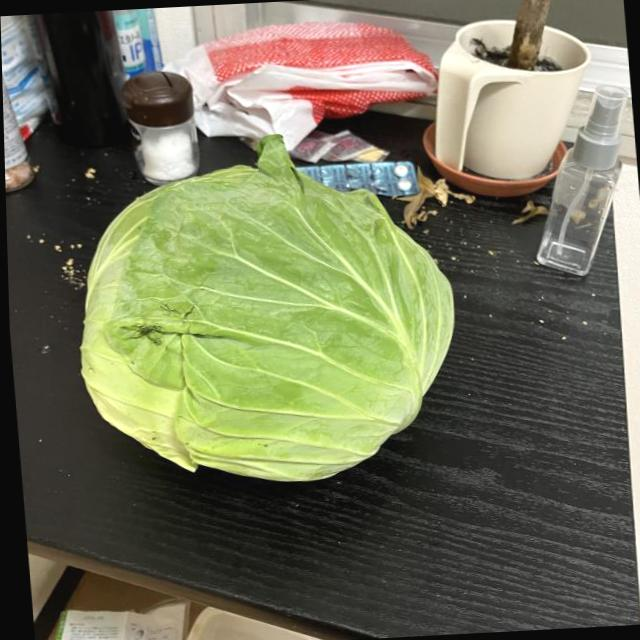Cabbage: (63, 122, 464, 496)
